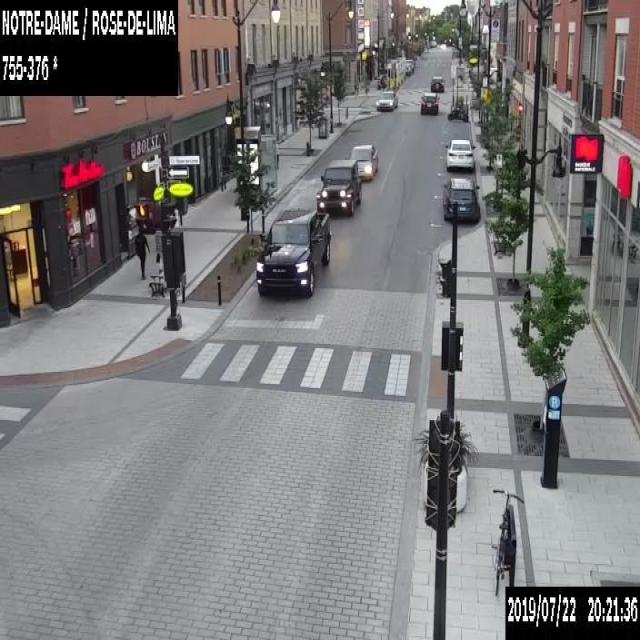pedestrian: (133, 225, 149, 279)
vehicle: (255, 210, 330, 298), (315, 159, 361, 215), (442, 177, 479, 224), (348, 143, 378, 179), (445, 138, 475, 170), (376, 90, 398, 110), (420, 91, 439, 114), (447, 105, 467, 121), (429, 75, 444, 92), (404, 59, 414, 73), (404, 63, 410, 74), (429, 40, 436, 46)
